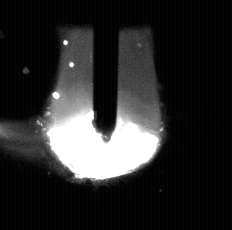arame: (93, 0, 119, 143)
poca: (44, 0, 164, 230)
